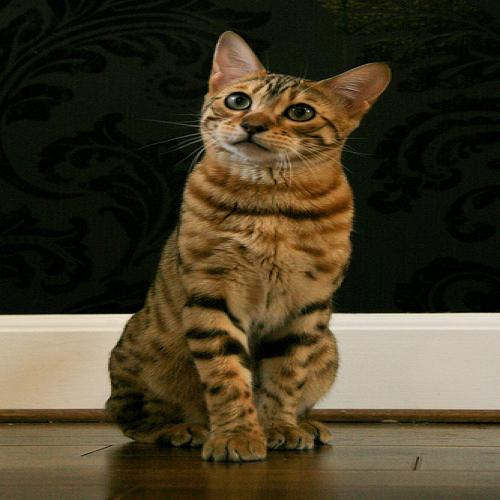bengal: (192, 30, 397, 169)
